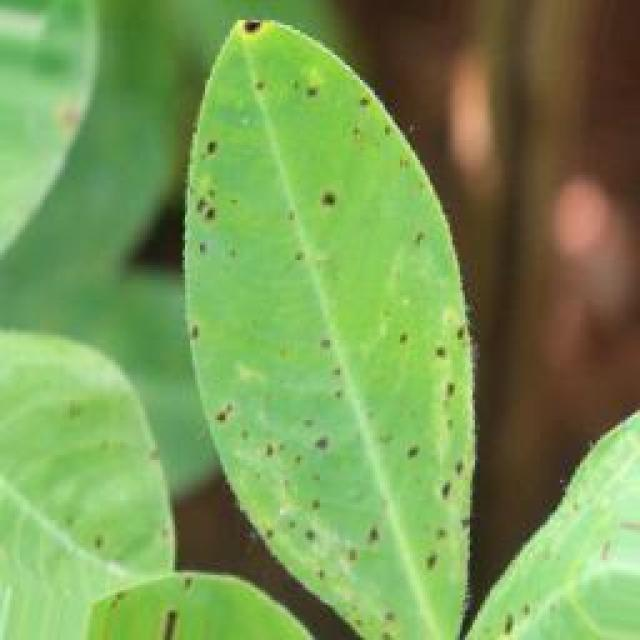Sigatoka: (249, 425, 383, 608), (400, 419, 476, 593), (405, 304, 477, 421), (110, 570, 220, 640), (186, 123, 242, 246), (310, 328, 370, 425), (206, 374, 259, 466), (349, 95, 409, 176), (481, 584, 563, 640), (52, 382, 106, 447), (353, 579, 407, 640), (322, 157, 356, 245), (173, 324, 222, 385), (278, 209, 316, 279), (236, 9, 279, 68), (298, 70, 339, 130), (75, 528, 127, 565)
